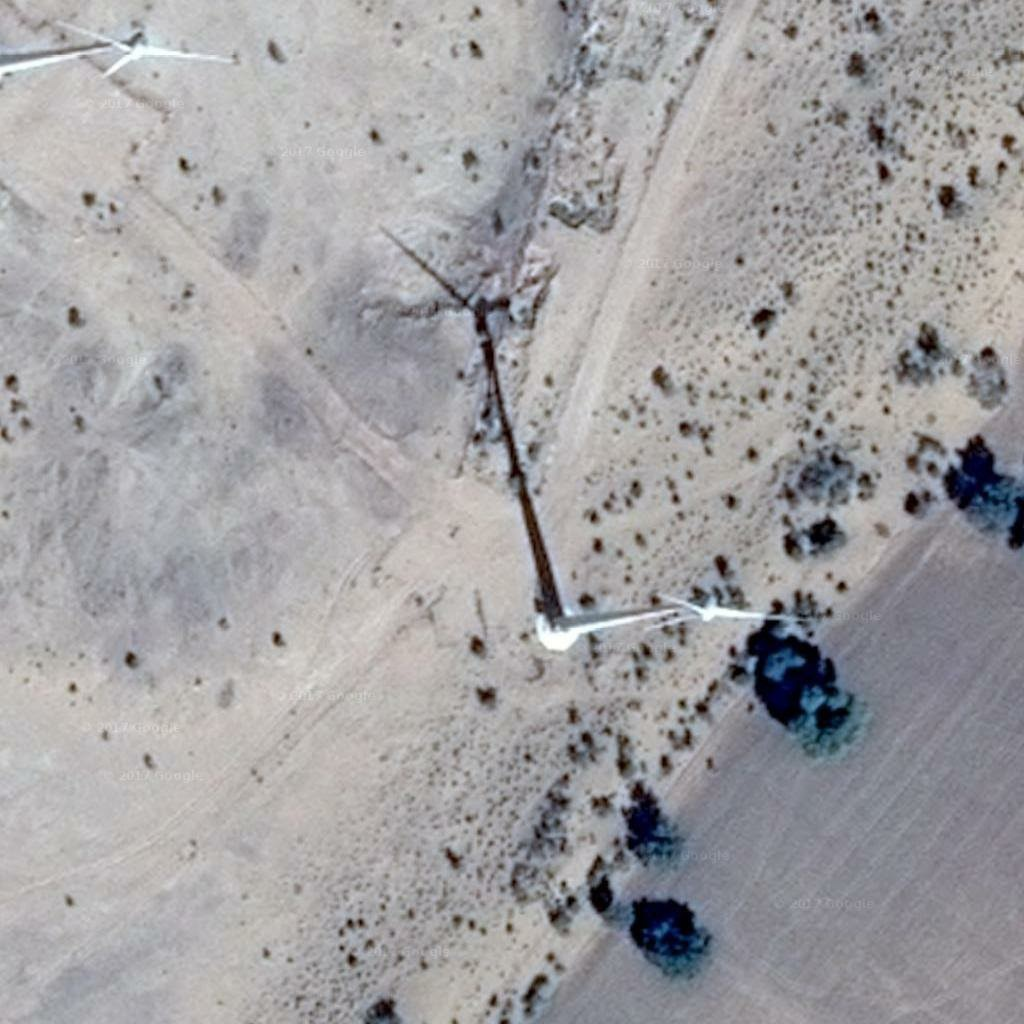Windmill: (373, 215, 584, 610)
